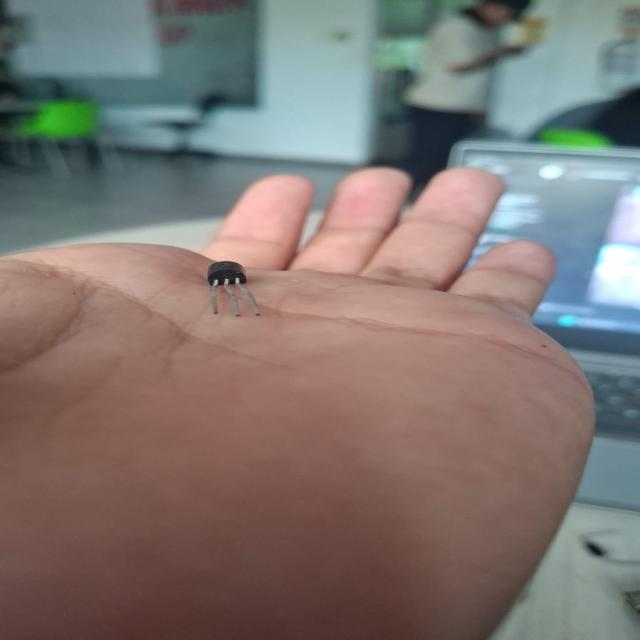Transistor: (206, 261, 261, 317)
